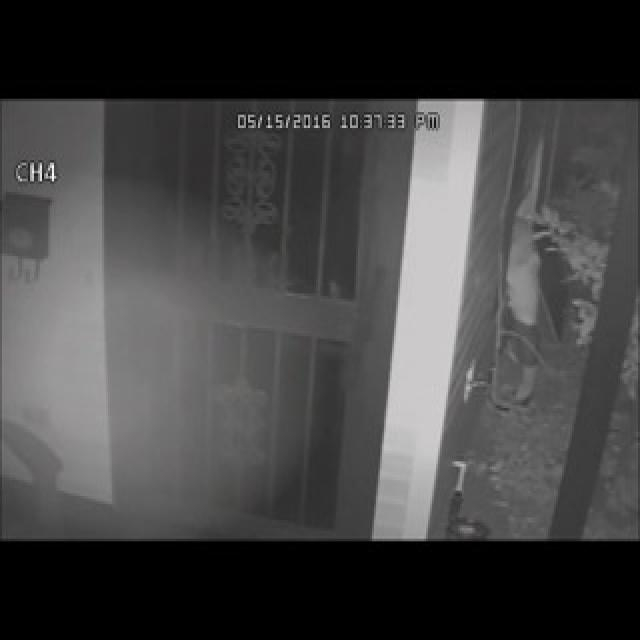thief: (499, 226, 561, 374)
